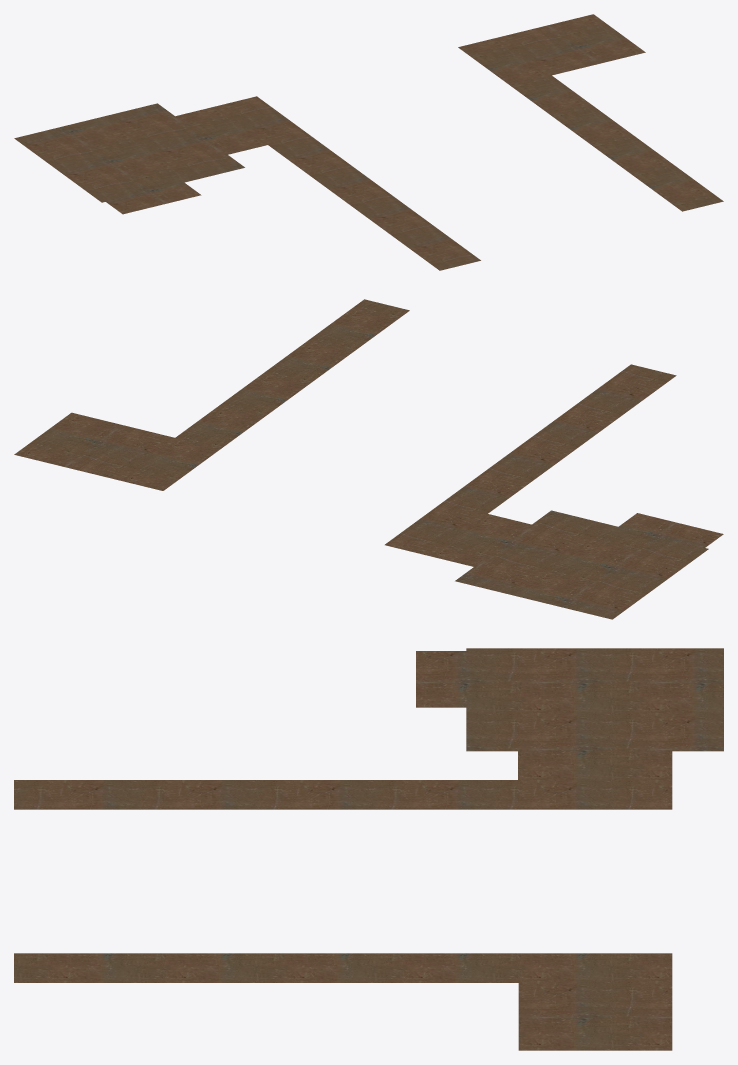
File: ceiling_2.FBX
The picture shows the model from 3 angles, top to bottom: view 1: azimuth 30°, elevation 25°; view 2: azimuth 150°, elevation 25°; view 3: azimuth 270°, elevation 25°; orthographic projection. The views are drawn at different scales.
Visible parts, largest first — view 1: ceiling_2; view 2: ceiling_2; view 3: ceiling_2.
Boxes of the visible parts, x1,y1,x2,y2 form: ceiling_2: (14, 14, 723, 270); ceiling_2: (14, 299, 723, 619); ceiling_2: (14, 648, 723, 1050).
Size of the model in its own units: 2698 by 0.000114 by 2014.
